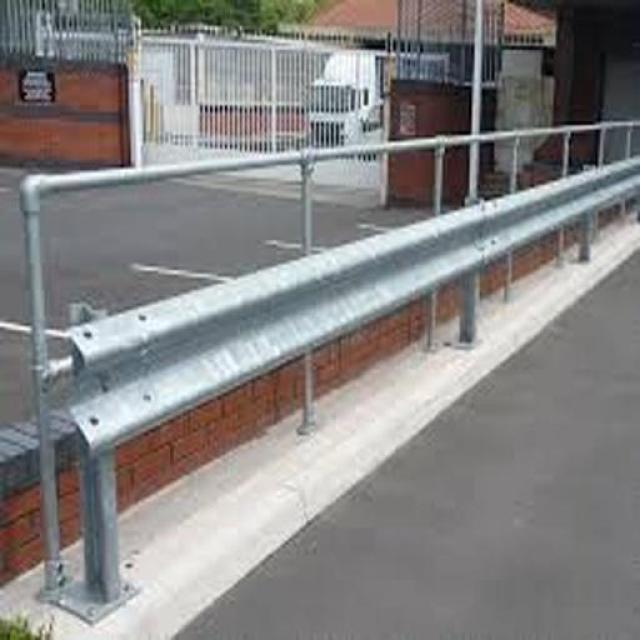Guard rail: (20, 114, 640, 636)
